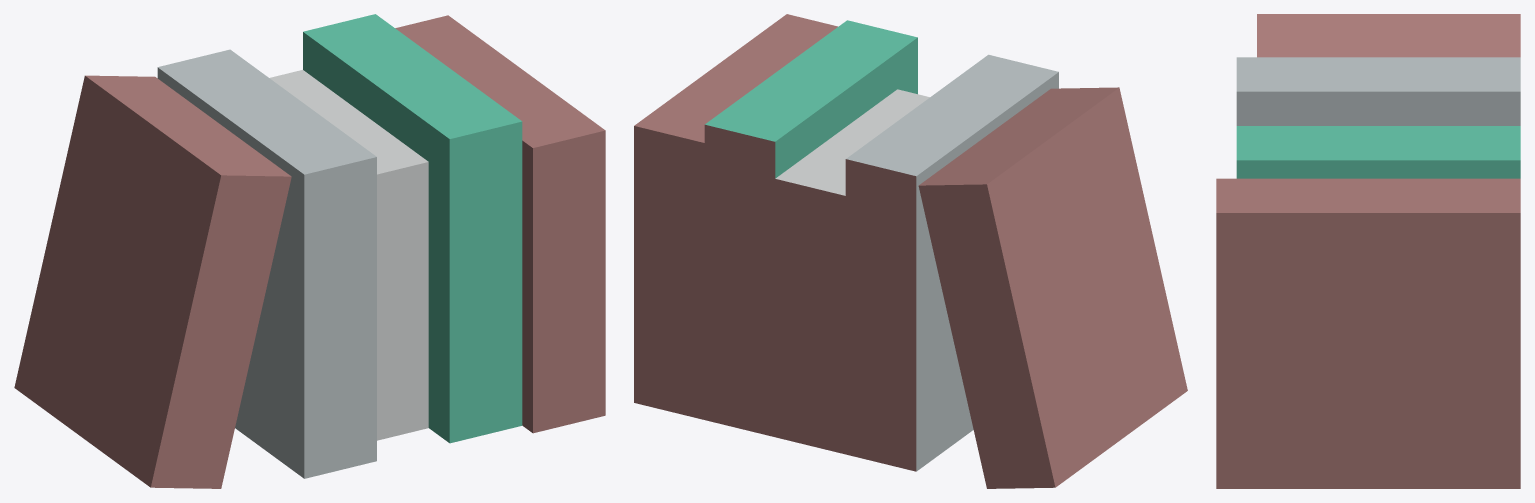
The model's file is books.glb.
3 views of the same model, side by side, from view 1: azimuth 30°, elevation 25°; view 2: azimuth 150°, elevation 25°; view 3: azimuth 270°, elevation 25° (orthographic). The views are drawn at different scales.
Visible parts, largest first — view 1: books; view 2: books; view 3: books.
Part boxes in pixels (x1,y1,x2,y2): books: [14, 14, 605, 488]; books: [634, 14, 1187, 488]; books: [1216, 14, 1520, 488].
Bounding box in the file's own units: 0.1504 × 0.1039 × 0.0945.
